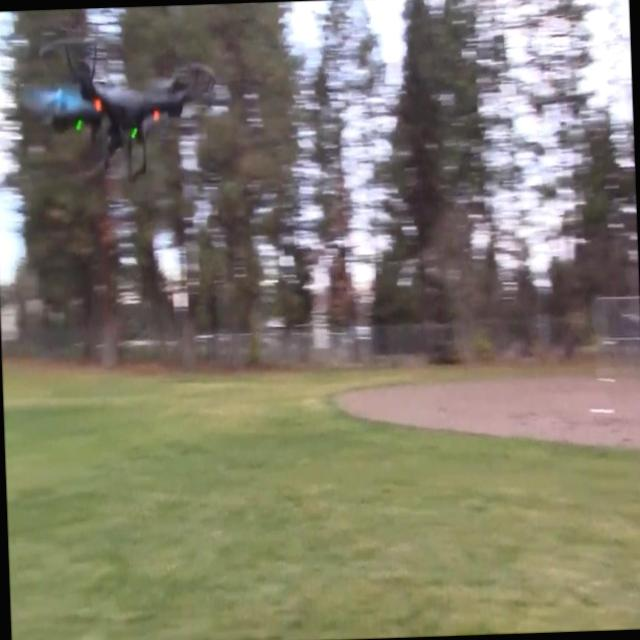drone: (28, 29, 222, 189)
